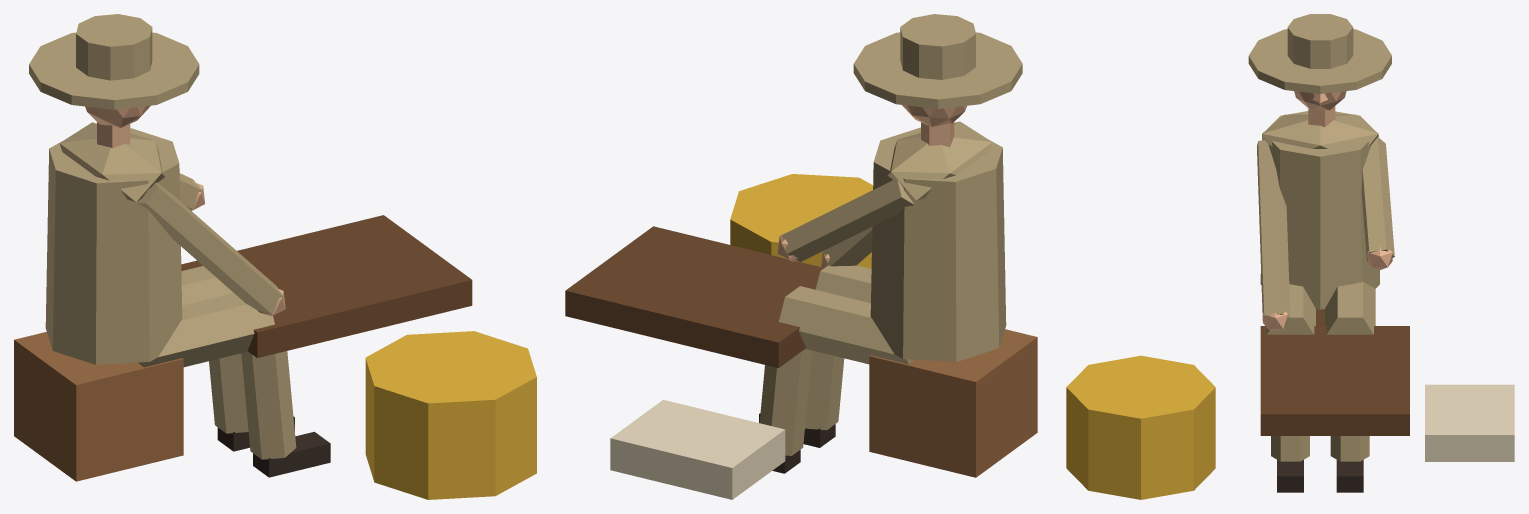
Rendered from arkeolog_1.glb.
3 views of the same model, side by side, from view 1: azimuth 30°, elevation 25°; view 2: azimuth 150°, elevation 25°; view 3: azimuth 270°, elevation 25° (orthographic). The views are drawn at different scales.
Parts seen in each view (by area): view 1: arkeolog_1; view 2: arkeolog_1; view 3: arkeolog_1.
Boxes of the visible parts, x1,y1,x2,y2 form: arkeolog_1: (14,14,536,499); arkeolog_1: (565,14,1037,499); arkeolog_1: (1066,14,1514,499).
Bounding box in the file's own units: 1.29 × 1.43 × 1.5.
